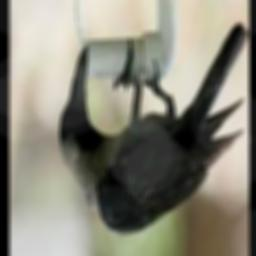Crow: (59, 23, 248, 235)
